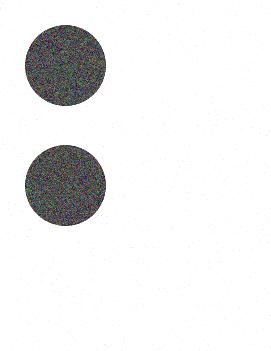B: (19, 21, 258, 338)
